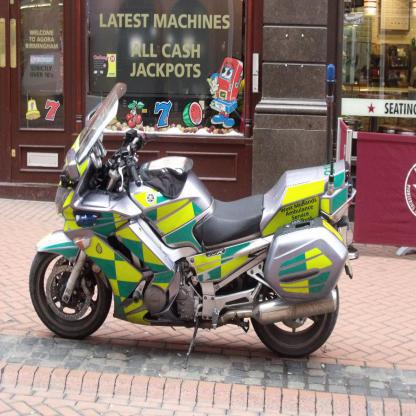motorcycle: (31, 85, 359, 360)
